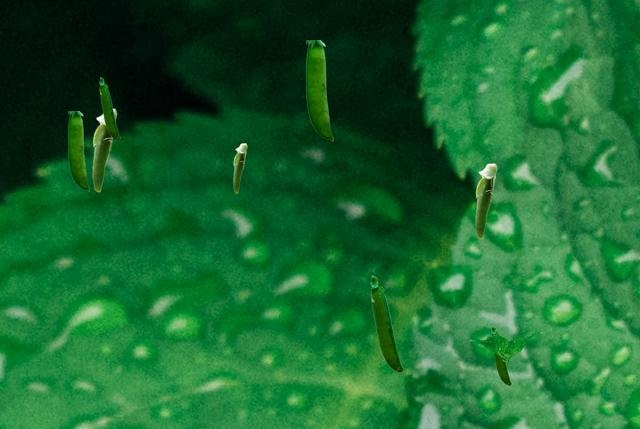pea: (370, 275, 402, 371), (306, 40, 332, 140), (92, 108, 116, 191), (68, 111, 88, 190), (475, 163, 496, 238), (99, 77, 119, 139), (491, 326, 510, 384), (233, 143, 246, 192)
